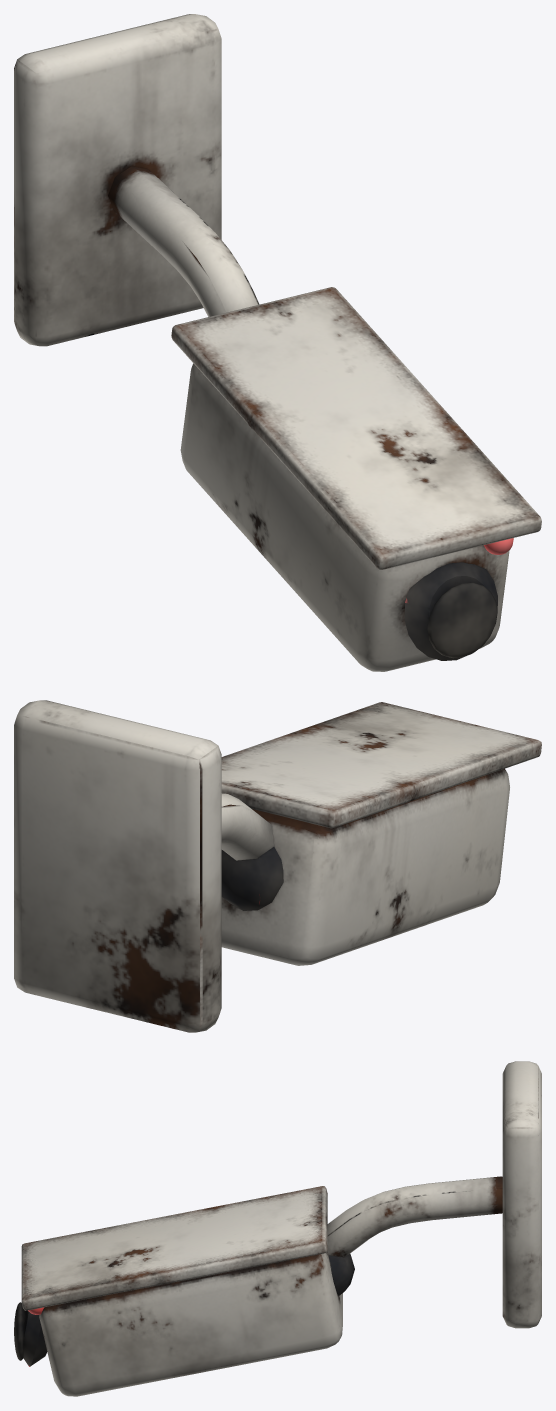
Rendered from security_cam.fbx.
The picture shows the model from 3 angles, top to bottom: view 1: azimuth 30°, elevation 25°; view 2: azimuth 150°, elevation 25°; view 3: azimuth 270°, elevation 25°; orthographic projection. The views are drawn at different scales.
Visible parts, largest first — view 1: Cam, Body; view 2: Body, Cam; view 3: Cam, Body.
Boxes of the visible parts, bbox=[...] form: Cam: bbox=[171, 287, 541, 671]; Body: bbox=[14, 14, 259, 346]; Body: bbox=[14, 700, 274, 1032]; Cam: bbox=[221, 702, 541, 965]; Cam: bbox=[14, 1186, 354, 1396]; Body: bbox=[327, 1061, 541, 1328].
Bounding box in the file's own units: 0.5 × 0.9674 × 1.61.
1 material, 1 textured.
